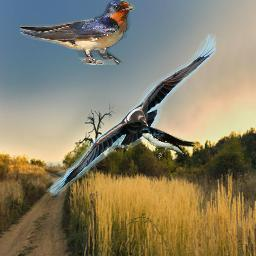Crow: (46, 34, 220, 196)
Swallow: (20, 0, 135, 65), (139, 126, 198, 161)
